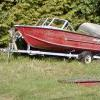Boat: (11, 6, 98, 67)
